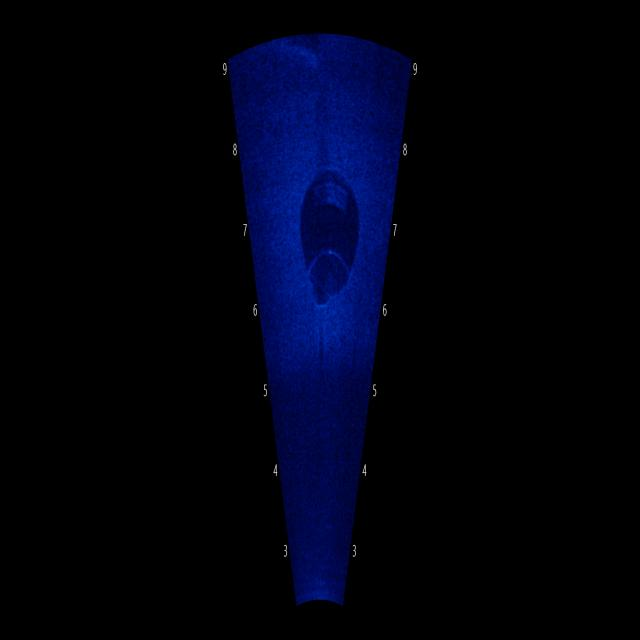circle: (300, 145, 372, 325)
